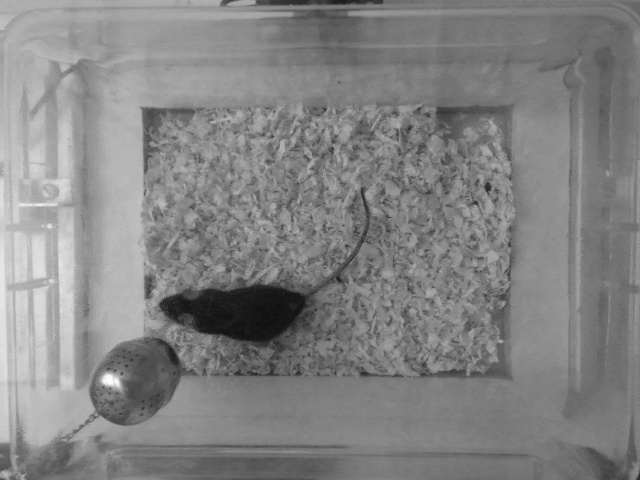mice: (157, 185, 380, 343)
